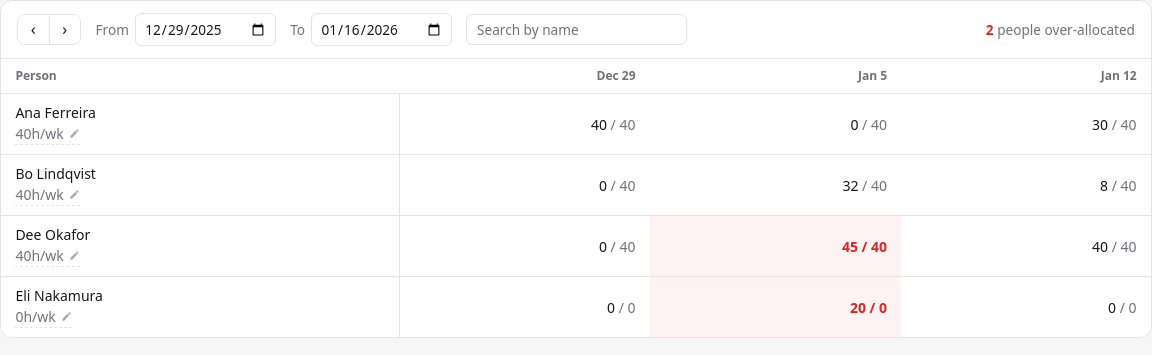
Test: week navigation and range › rejects an inverted range without rendering a grid for it
expect the column heading "Ana Ferreira 40h/wk" is shown: met, box [1,94,400,155]
Type "2026-02-01" into the date field labelled "From" at (206, 29), box [135,13,276,46]
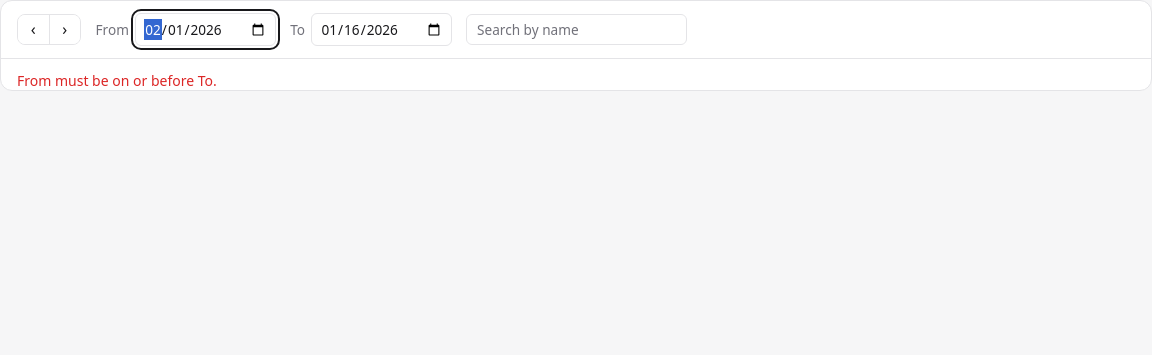
expect the text "From must be on or before To." is shown: met, box [17,71,217,90]
expect the table is gone: met
